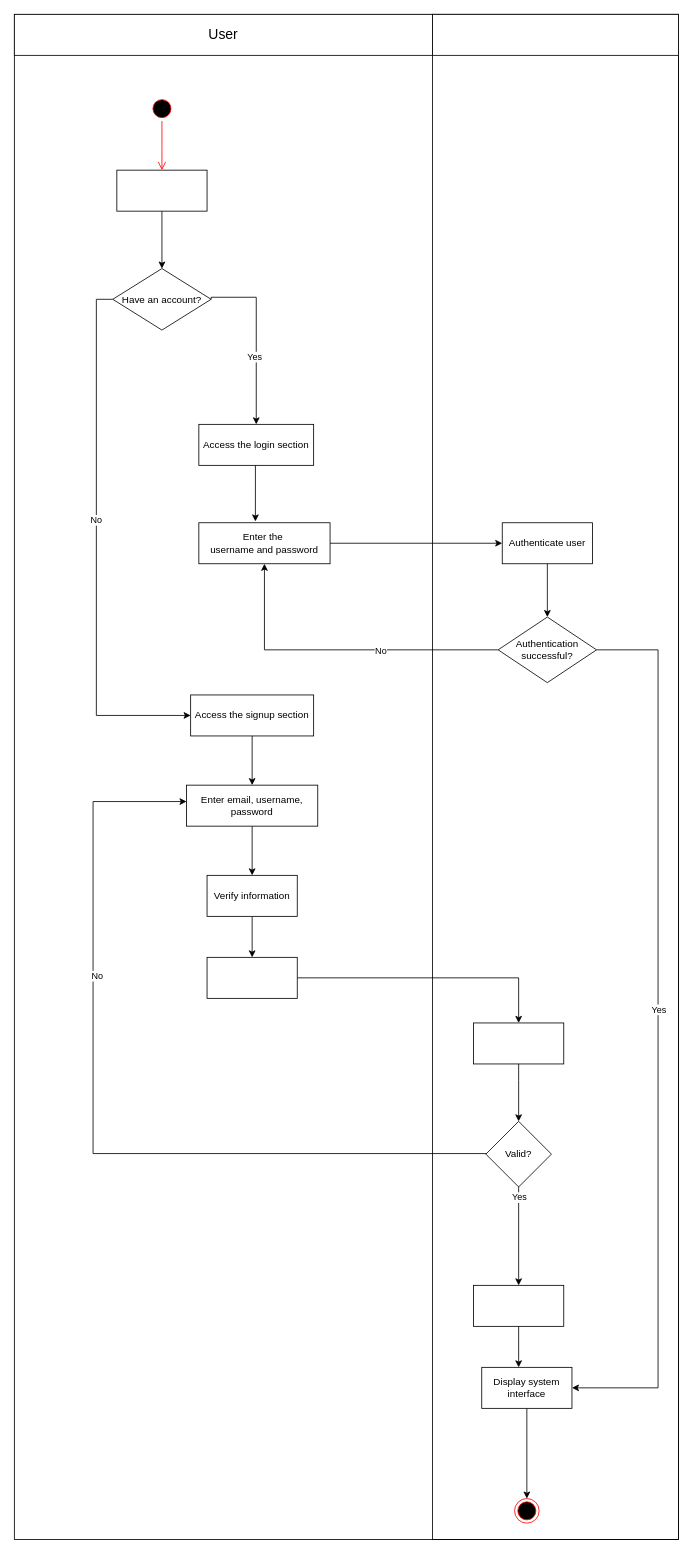
Some shapes in this 693 by 1554 pixel diagram are drawn without their labels. The shapes that lost their labels are listed below. From the top down, each one's centre as x and y in pixels, then its label:
At (555,34): "System".
At (161,190): "Access the website".
At (251,977): "Submit information".
At (518,1043): "Validate input format".
At (518,1305): "Save information".
